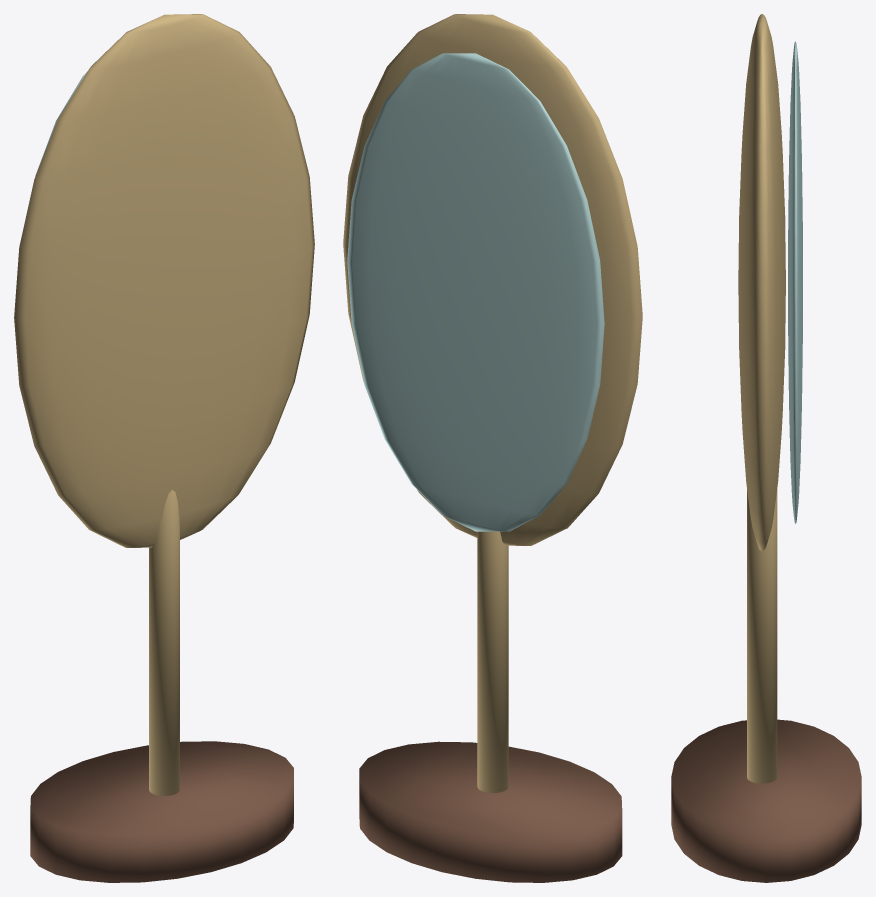
The model's file is mirror.oval-old.glb.
The picture shows the model from 3 angles, left to right: view 1: azimuth 30°, elevation 25°; view 2: azimuth 150°, elevation 25°; view 3: azimuth 270°, elevation 25°; orthographic projection. The views are drawn at different scales.
Visible parts, largest first — view 1: mirror circular foot; view 2: mirror circular foot; view 3: mirror circular foot.
Boxes of the visible parts, box(x1,y1,x2,y2) form: mirror circular foot: box(14, 14, 314, 882); mirror circular foot: box(343, 14, 642, 882); mirror circular foot: box(671, 14, 861, 882).
Bounding box in the file's own units: 0.78 × 2.04 × 0.44.
